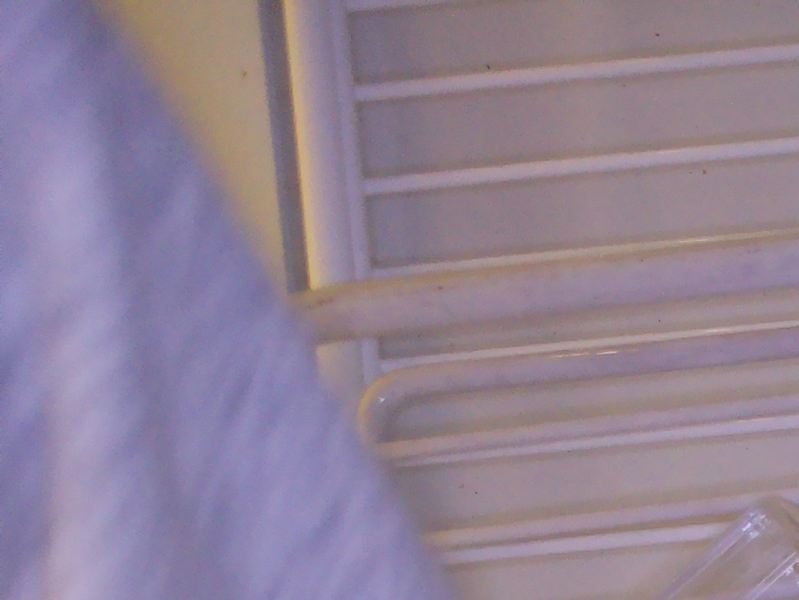plate: (649, 493, 796, 600)
